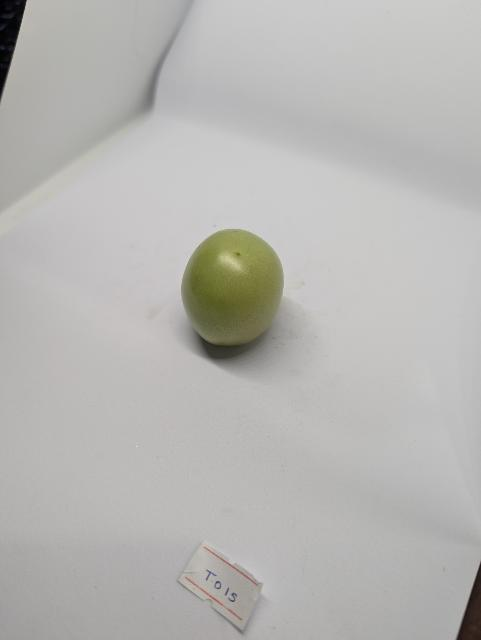green: (180, 227, 286, 350)
